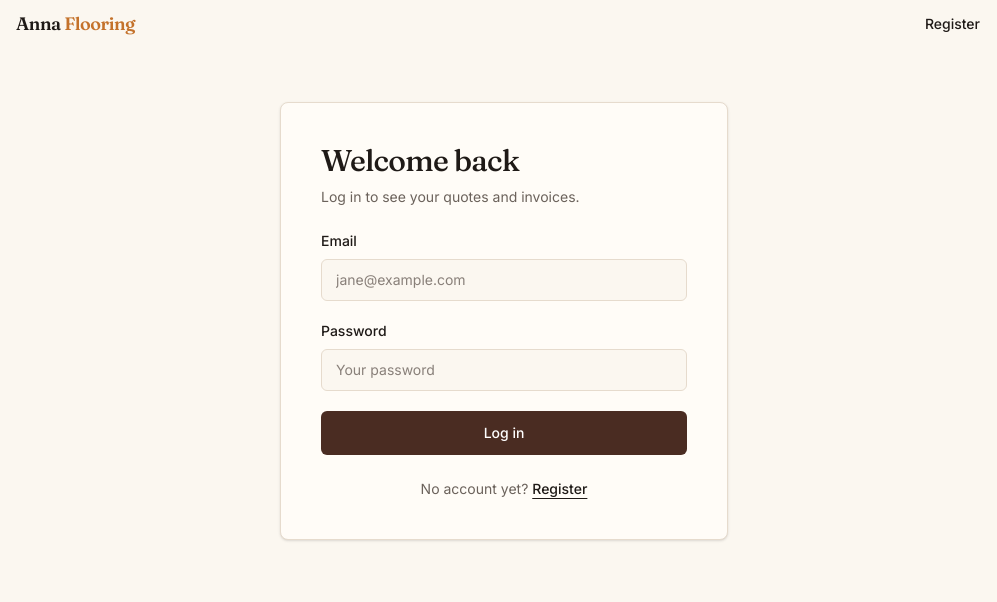
Login › shows field errors instead of submitting an empty form
The width and height of the screenshot is (997, 602).
What coordinates should you click on to do the following:
click the button "Log in"
I would click on:
 (504, 433)
Its box is [321,411,687,455].
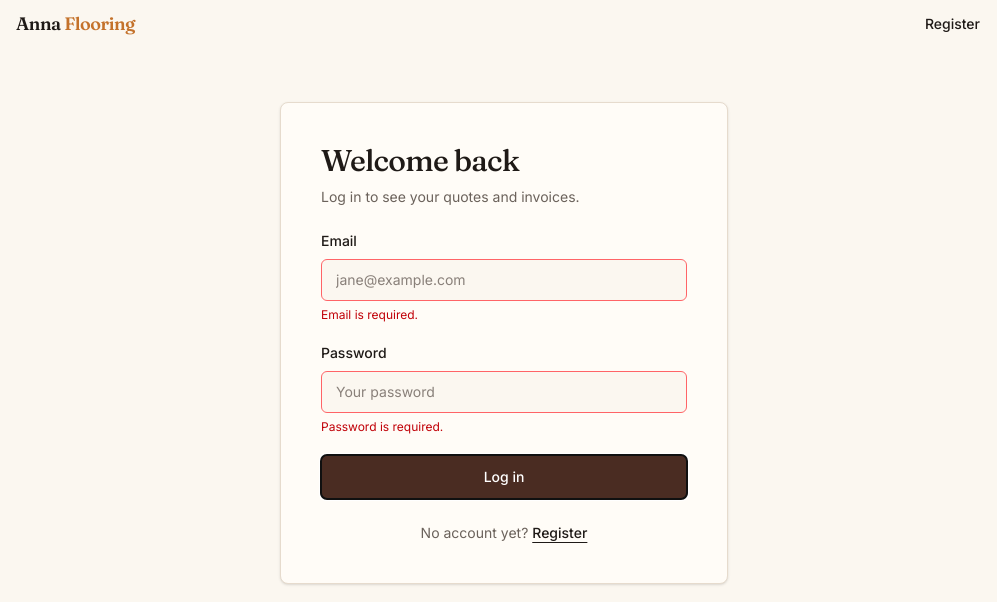
Result: the text "Email is required." is shown at [321,307,418,322]
Result: the text "Password is required." is shown at [321,419,443,434]
